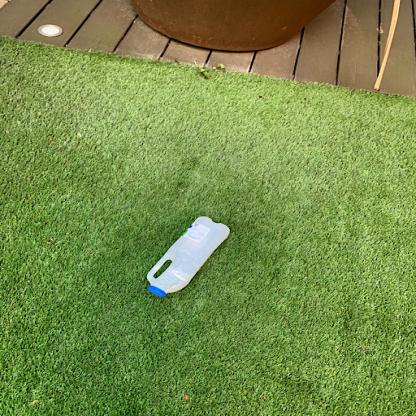trash: (146, 215, 234, 298)
